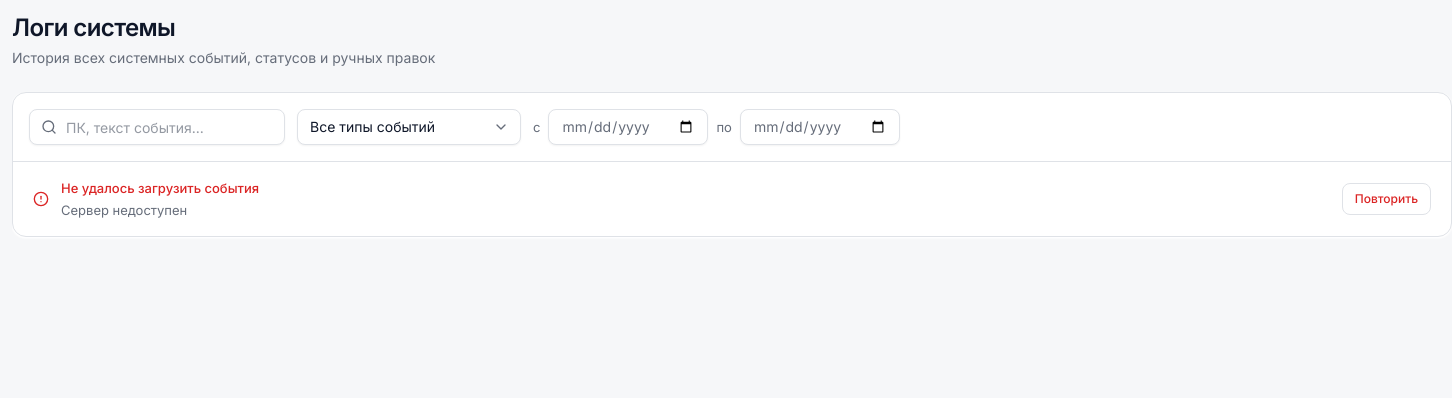
Test: EventsPage › ошибка загрузки: текст ошибки и «Повторить» вместо «Событий не найдено» и «0 записей»; повтор перезапрашивает
Expected: the text "Не удалось загрузить события" is shown, top-left (61, 178), bottom-right (259, 198)
Expected: the text "Сервер недоступен" is shown, top-left (61, 202), bottom-right (187, 218)
Click the button "Повторить".
click(1386, 199)  # box top-left (1342, 183), bottom-right (1431, 215)
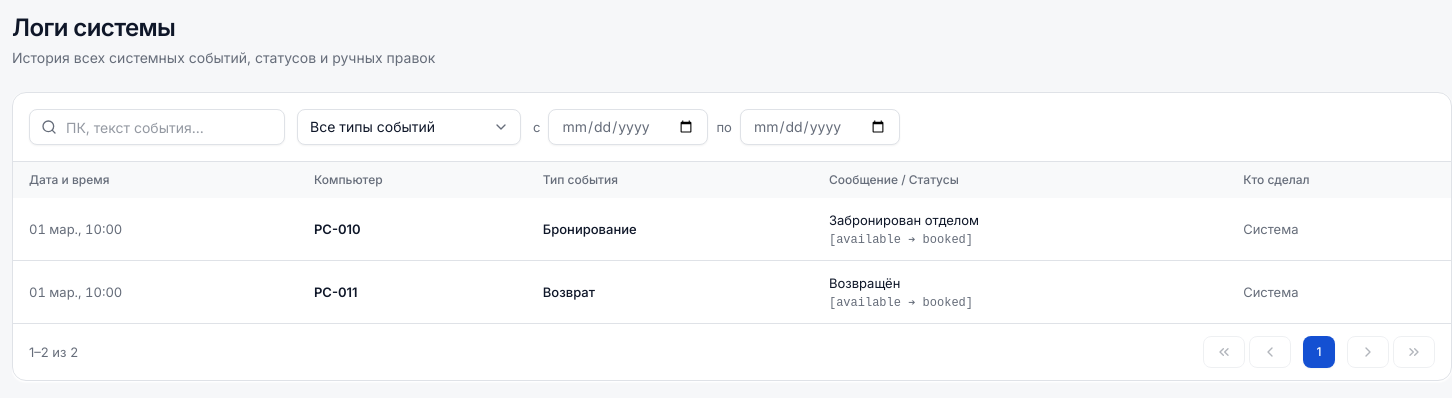
Now the text "PC-010" is shown, box top-left (298, 198), bottom-right (527, 260)
Now the message "Не удалось загрузить события Сервер недоступен Повторить" is gone
